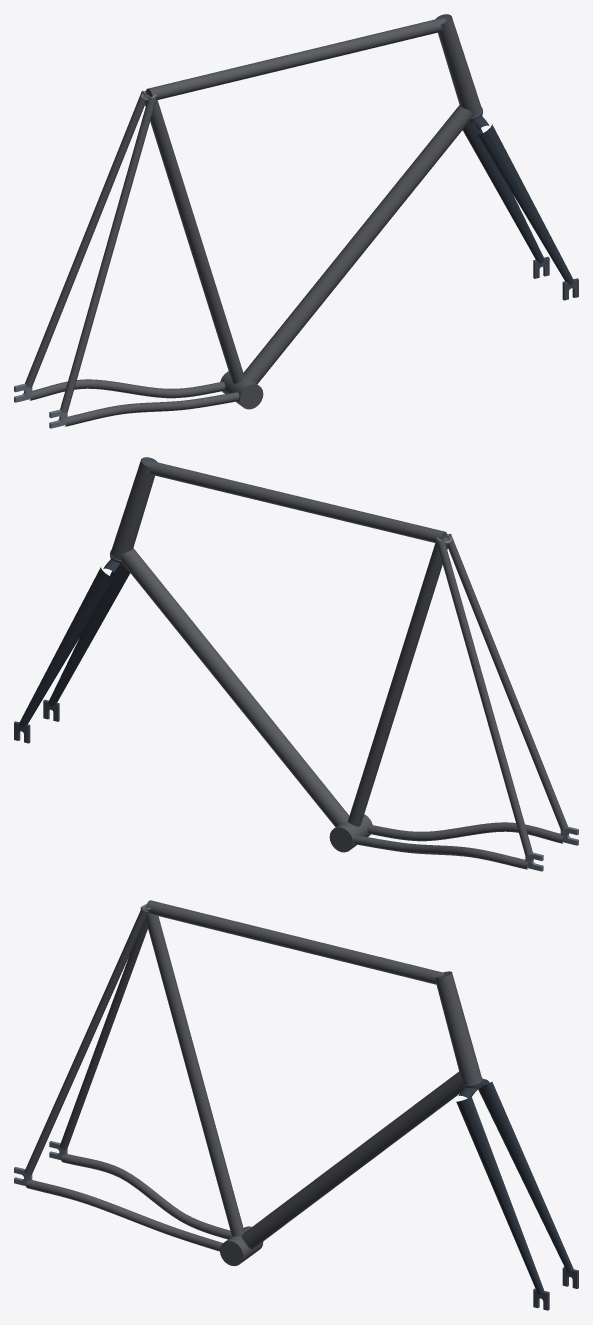
Rendered from wabi-prism-62.glb.
The picture shows the model from 3 angles, top to bottom: view 1: azimuth 30°, elevation 25°; view 2: azimuth 150°, elevation 25°; view 3: azimuth 330°, elevation 25°; orthographic projection.
Parts seen in each view (by area): view 1: paint_down, paint_top, paint_seat, paint_seatstay_1, paint_seatstay_-1, fork_blade_1, paint_chainstay_-1, paint_head, fork_blade_-1, paint_chainstay_1, paint_bottom_bracket; view 2: paint_down, paint_top, paint_seat, paint_seatstay_-1, paint_seatstay_1, fork_blade_-1, paint_chainstay_1, paint_head, fork_blade_1, paint_chainstay_-1, paint_bottom_bracket; view 3: paint_down, paint_seat, paint_top, fork_blade_1, paint_seatstay_1, fork_blade_-1, paint_head, paint_seatstay_-1, paint_chainstay_1, paint_chainstay_-1, paint_bottom_bracket.
Boxes of the visible parts, left/top/right/bottom form: paint_down: left=243, top=105, right=471, bottom=384; paint_top: left=145, top=17, right=446, bottom=99; paint_seat: left=143, top=93, right=244, bottom=383; paint_seatstay_1: left=60, top=96, right=156, bottom=412; paint_seatstay_-1: left=25, top=90, right=146, bottom=387; fork_blade_1: left=477, top=124, right=573, bottom=285; paint_chainstay_-1: left=29, top=379, right=225, bottom=400; paint_head: left=435, top=14, right=481, bottom=117; fork_blade_-1: left=462, top=122, right=544, bottom=263; paint_chainstay_1: left=65, top=392, right=239, bottom=426; paint_bottom_bracket: left=220, top=371, right=263, bottom=409; paint_down: left=121, top=548, right=349, bottom=827; paint_top: left=147, top=460, right=447, bottom=542; paint_seat: left=348, top=536, right=449, bottom=826; paint_seatstay_-1: left=436, top=539, right=532, bottom=855; paint_seatstay_1: left=446, top=533, right=567, bottom=830; fork_blade_-1: left=19, top=567, right=115, bottom=728; paint_chainstay_1: left=367, top=822, right=563, bottom=843; paint_head: left=111, top=457, right=157, bottom=560; fork_blade_1: left=48, top=565, right=130, bottom=706; paint_chainstay_-1: left=353, top=835, right=527, bottom=869; paint_bottom_bracket: left=329, top=814, right=372, bottom=852; paint_down: left=241, top=1071, right=463, bottom=1249; paint_seat: left=145, top=906, right=244, bottom=1236; paint_top: left=146, top=900, right=445, bottom=984; fork_blade_1: left=456, top=1096, right=544, bottom=1294; paint_seatstay_1: left=24, top=907, right=148, bottom=1175; fork_blade_-1: left=478, top=1081, right=573, bottom=1272; paint_head: left=435, top=971, right=481, bottom=1084; paint_seatstay_-1: left=59, top=920, right=147, bottom=1149; paint_chainstay_1: left=26, top=1180, right=222, bottom=1251; paint_chainstay_-1: left=61, top=1154, right=231, bottom=1239; paint_bottom_bracket: left=220, top=1226, right=263, bottom=1265.
Bounding box in the file's own units: 1.04 × 0.6275 × 0.1396.
